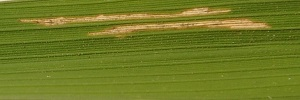RiceBacterialBlight: (17, 4, 273, 42)
